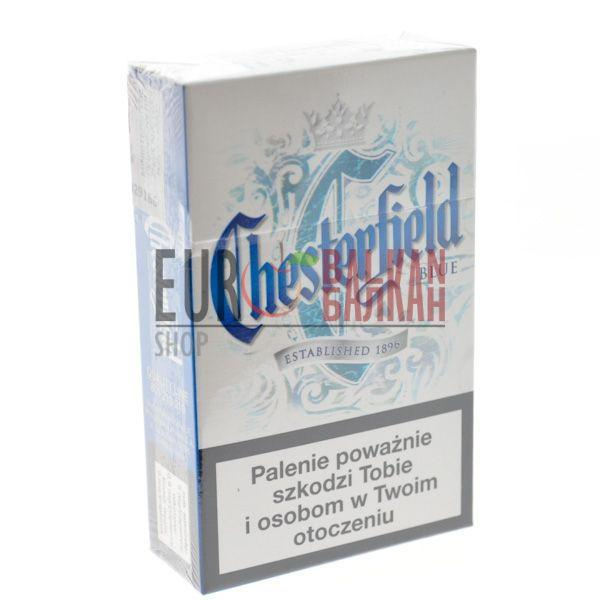chesterfield_blue: (185, 76, 468, 532)
